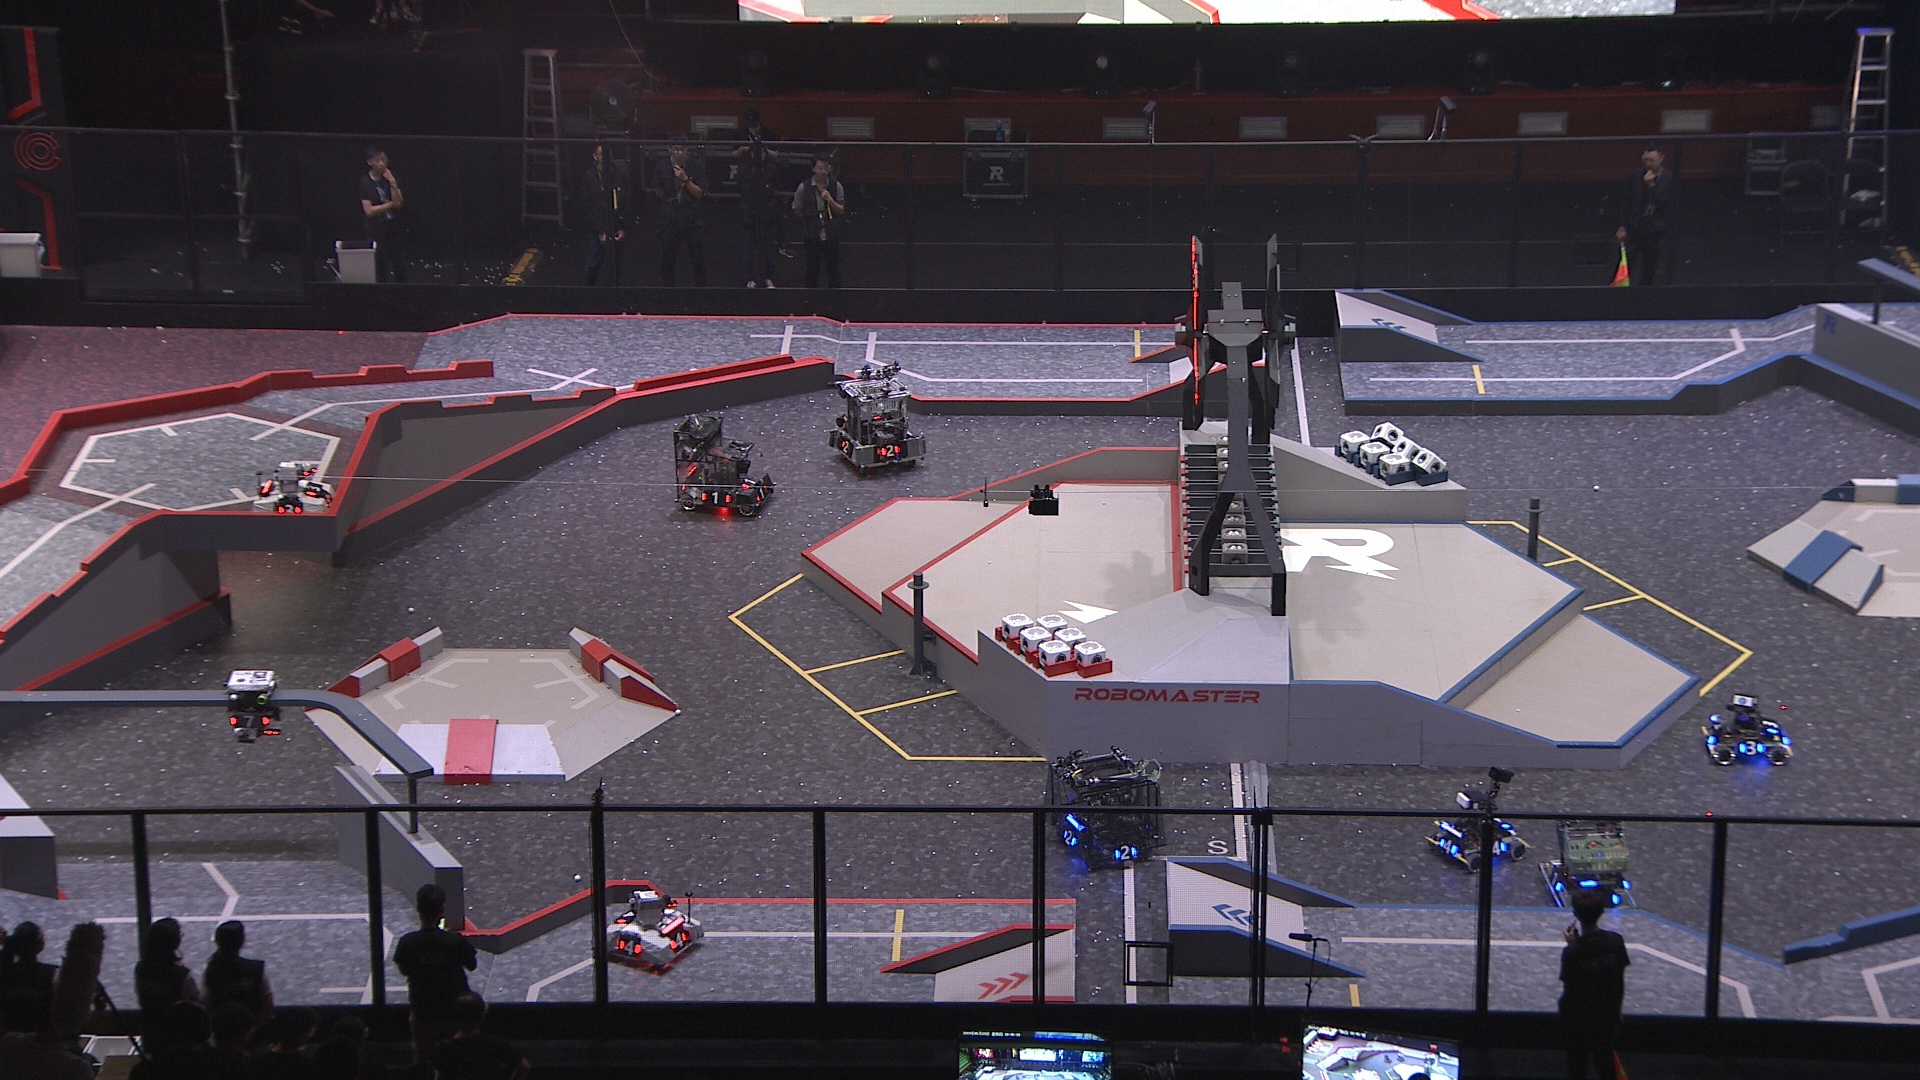armor: (229, 713, 269, 731), (698, 488, 731, 505), (1737, 740, 1768, 756), (1547, 868, 1567, 893), (617, 938, 645, 955), (667, 928, 688, 949), (1114, 845, 1139, 862), (1760, 716, 1783, 735), (276, 501, 301, 517), (1439, 836, 1458, 856), (615, 909, 636, 926), (878, 443, 902, 458), (1491, 839, 1509, 858), (1062, 829, 1079, 849), (305, 483, 324, 498), (837, 438, 852, 455), (756, 484, 769, 502), (740, 476, 756, 491)
car: (1040, 749, 1166, 872), (671, 413, 775, 522), (1532, 818, 1638, 922), (829, 373, 926, 475), (1422, 787, 1528, 872), (595, 891, 707, 971), (1700, 695, 1789, 769), (252, 463, 338, 531)
watcher: (223, 669, 284, 745)
